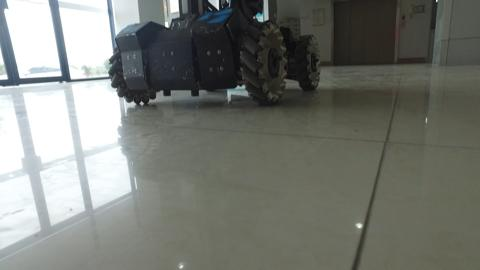chariot: (94, 1, 344, 134)
